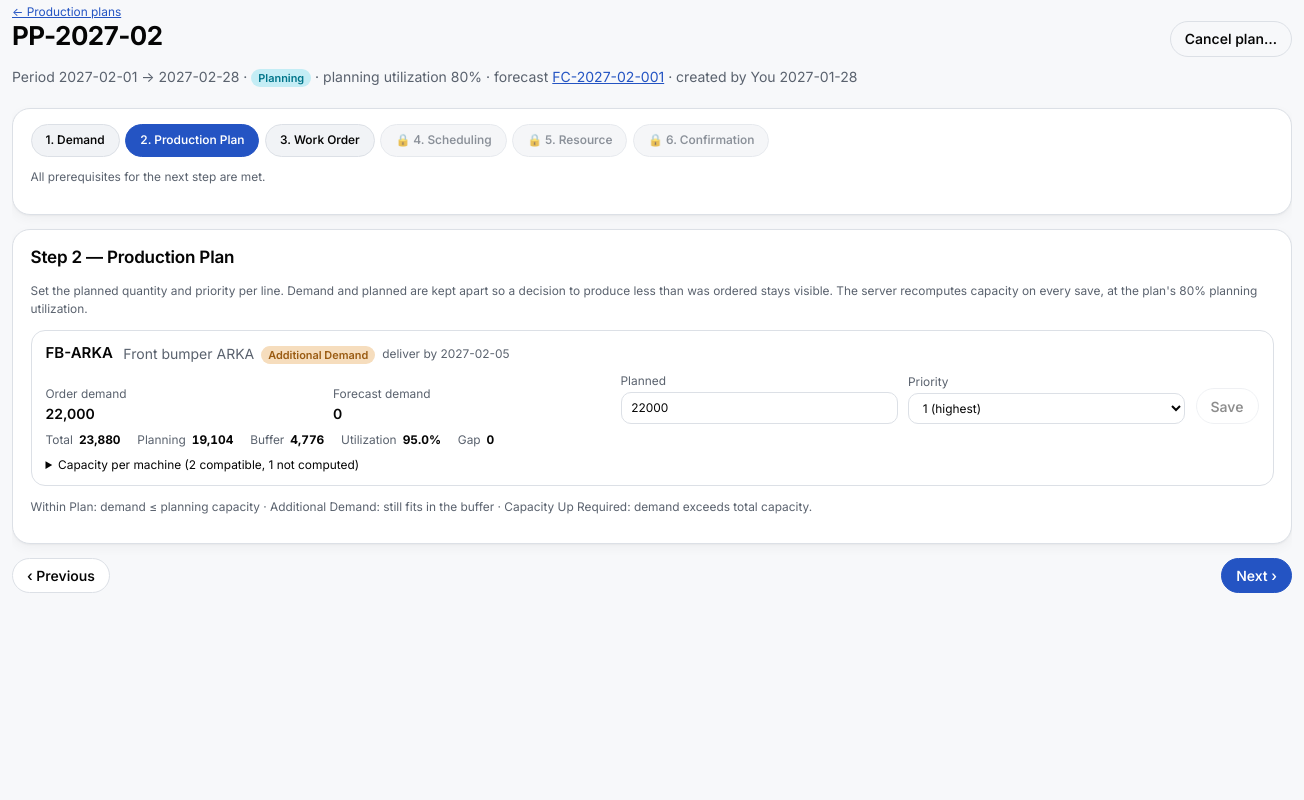
Test: stores forward progress when a ready step is opened
This screenshot has width=1304, height=800.
Expected: the heading "Step 2 — Production Plan" is shown, [30, 245, 234, 270]
Click the button "Next ›" at (1257,576), box [1221, 558, 1292, 594]
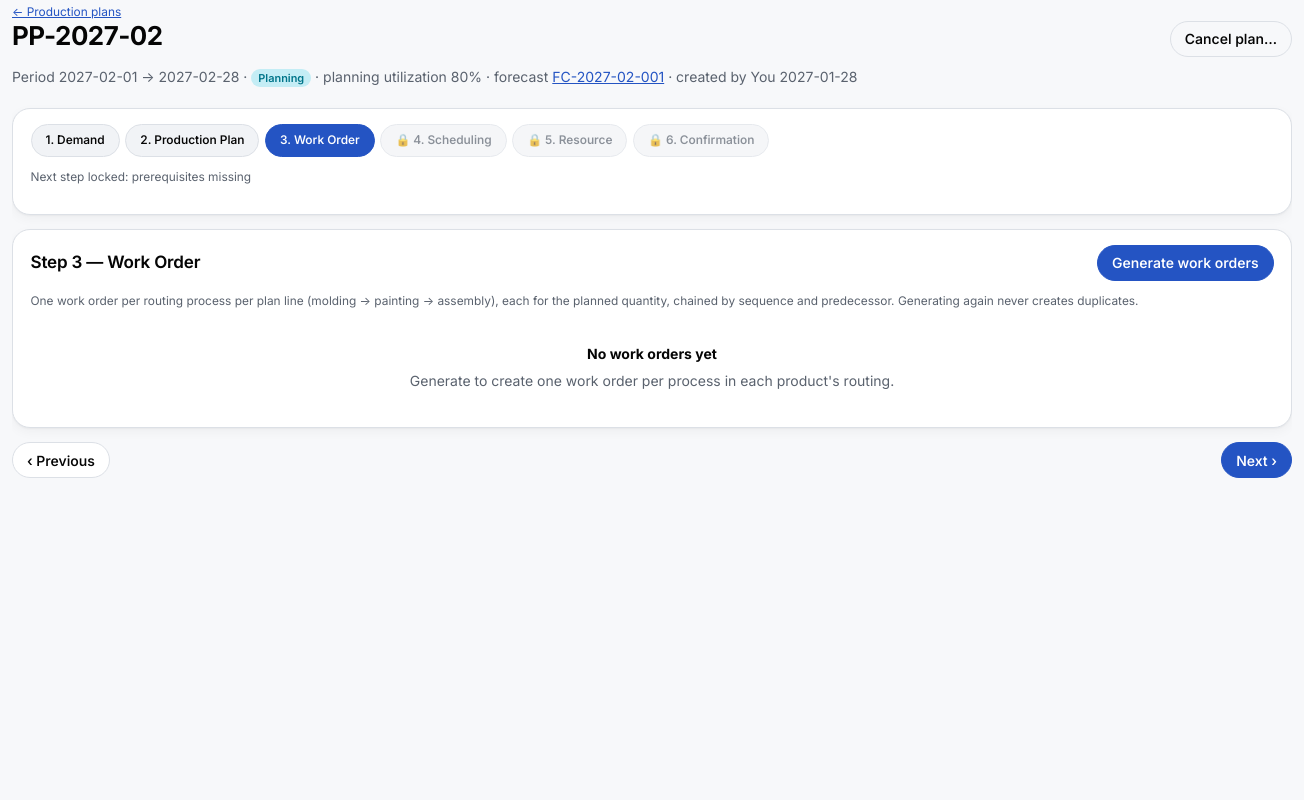
Result: the heading "Step 3 — Work Order" is shown at [30, 250, 200, 276]
